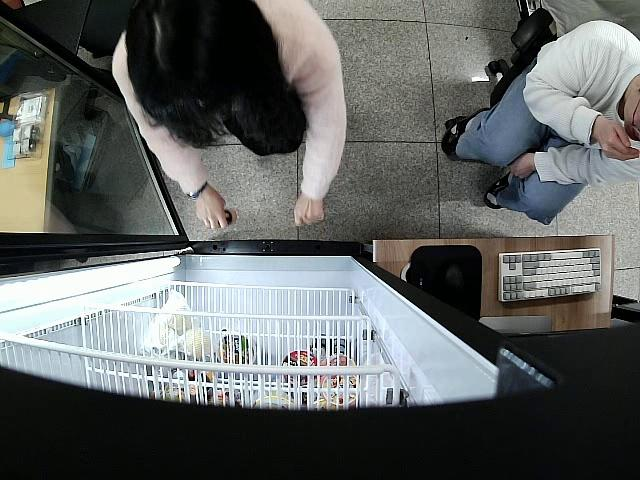00_hand: (593, 112, 640, 162), (195, 195, 229, 231), (294, 192, 327, 228)
17_vita500: (223, 209, 239, 226)
